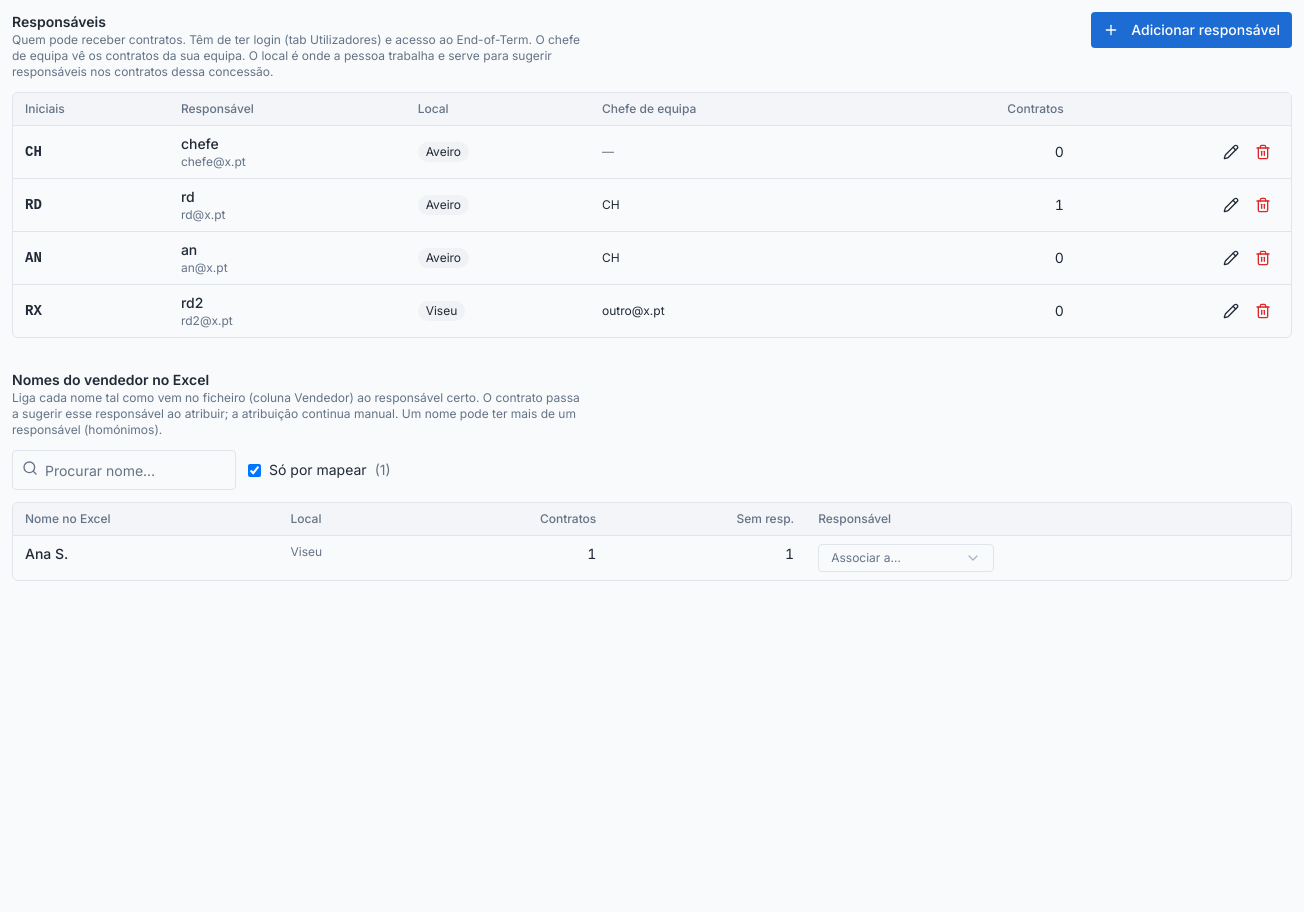
Test case: OwnersPanel › por omissão mostra só os nomes por mapear
The image size is (1304, 912).
expect the text "Rui M. Duarte" is not shown: met
expect the text "Ana S." is shown: met, box x1=13 y1=536 x2=278 y2=580
Click the checkbox labelled "Só por mapear (1)": (254, 470) x1=248 y1=464 x2=261 y2=476
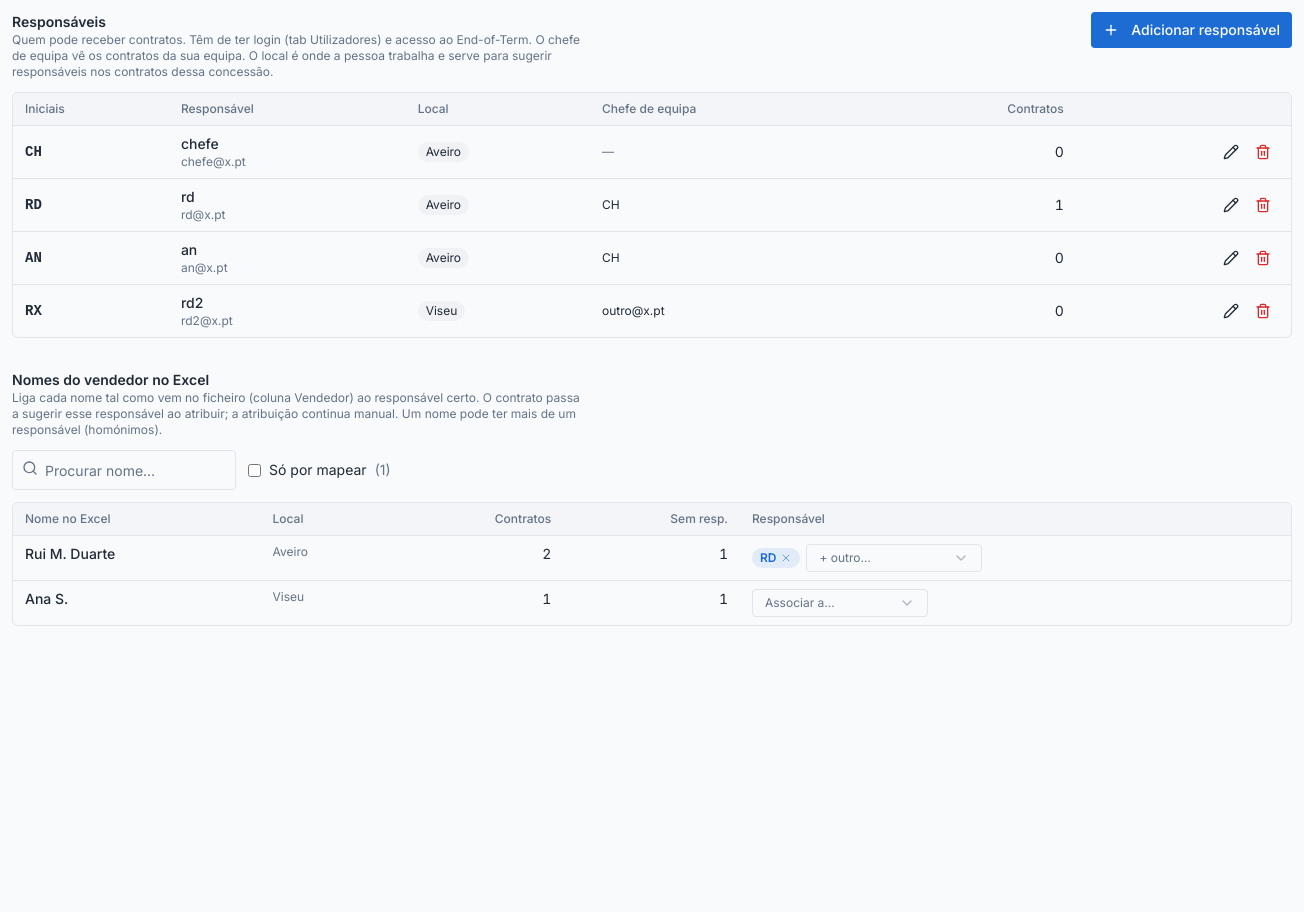
expect the text "Rui M. Duarte" is shown: met, box x1=13 y1=536 x2=260 y2=580
